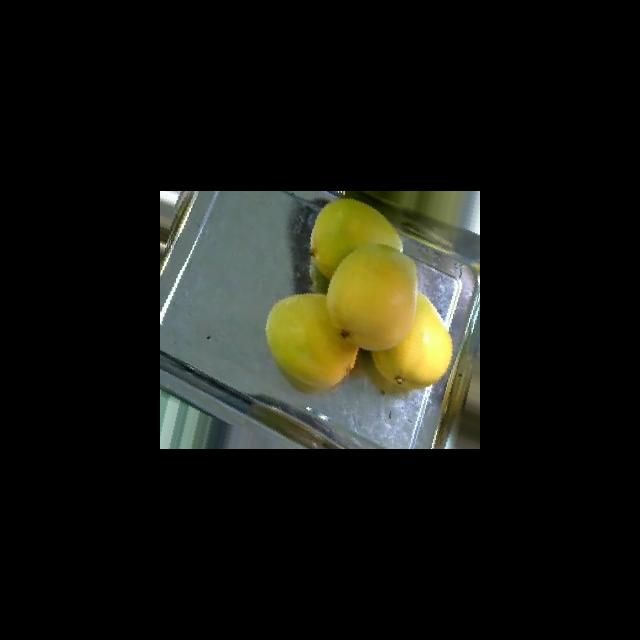Mango: (326, 242, 418, 351), (265, 292, 358, 391), (371, 291, 453, 389), (309, 197, 402, 279)
